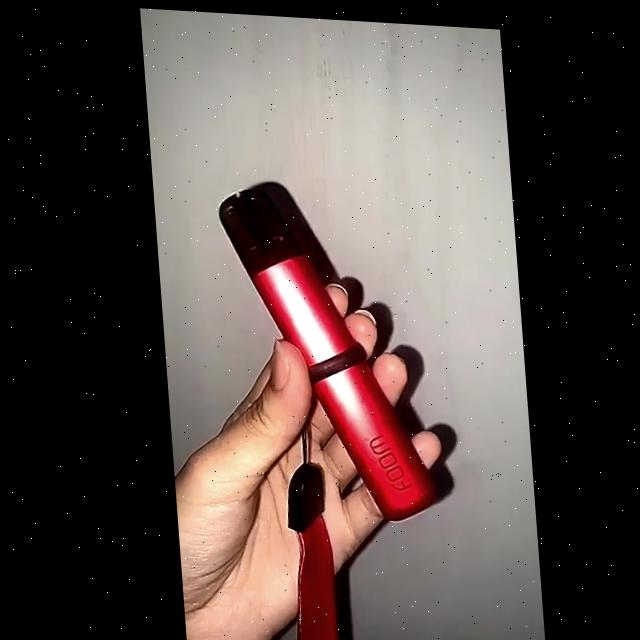vape: (217, 178, 444, 517)
